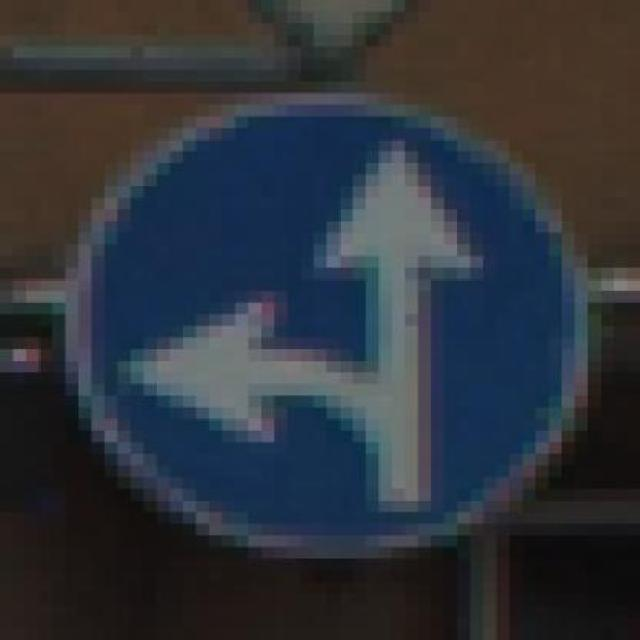Go straight or turn left: (52, 93, 614, 593)
